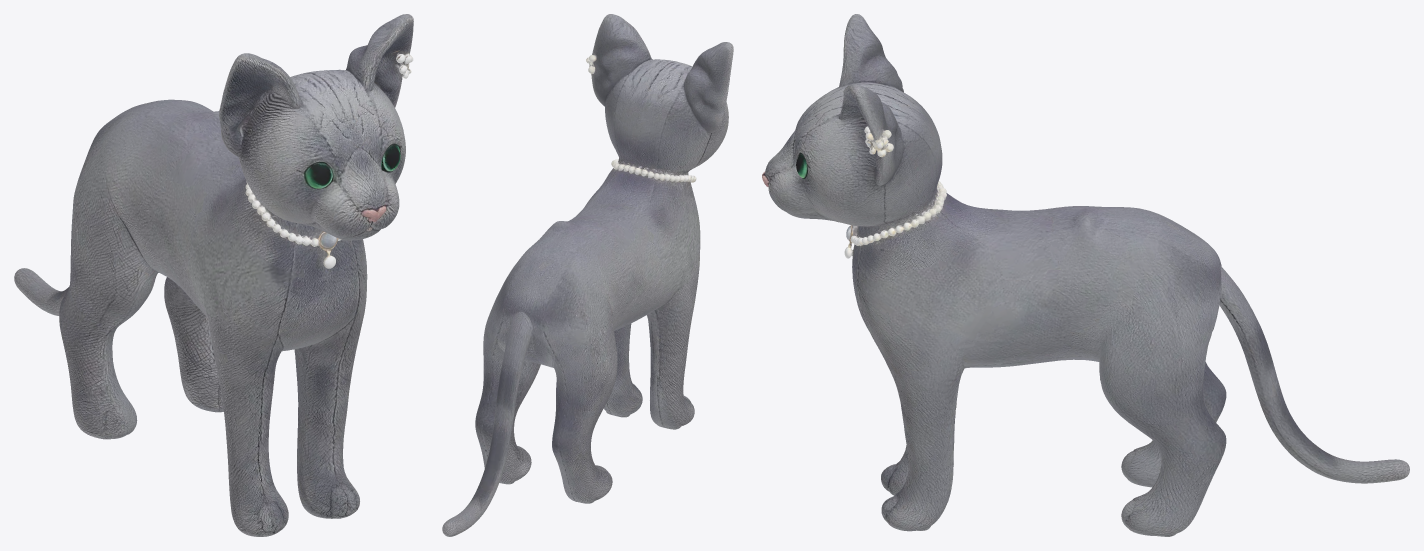
Rendered from meshy-peterbald.glb.
3 views of the same model, side by side, from view 1: azimuth 30°, elevation 25°; view 2: azimuth 150°, elevation 25°; view 3: azimuth 270°, elevation 25° (orthographic). The views are drawn at different scales.
Parts seen in each view (by area): view 1: Mesh_0; view 2: Mesh_0; view 3: Mesh_0.
Part boxes in pixels (x1,y1,x2,y2): Mesh_0: [14, 14, 413, 536]; Mesh_0: [442, 14, 733, 536]; Mesh_0: [762, 14, 1409, 536].
Bounding box in the file's own units: 0.5875 × 1.49 × 1.9.
Materials: 1 (1 with a texture image).
